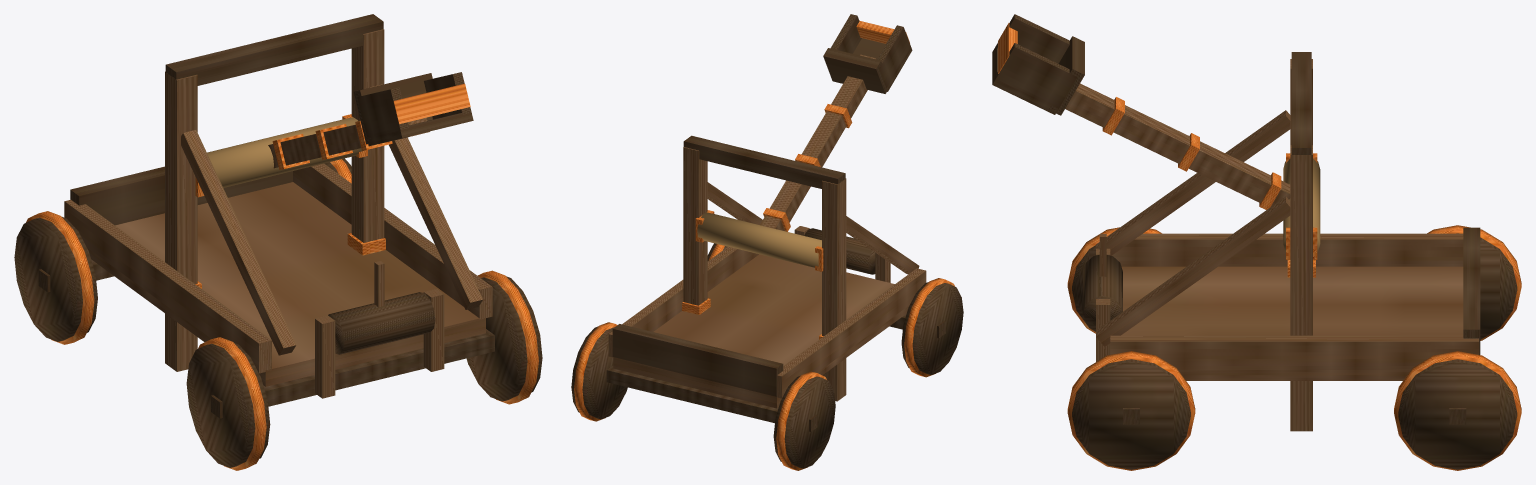
The model's file is ae_catapult_small_bronze_lod1.glb.
3 renders of one model, left to right at view 1: azimuth 30°, elevation 25°; view 2: azimuth 150°, elevation 25°; view 3: azimuth 270°, elevation 25°, orthographic. The views are drawn at different scales.
Visible parts, largest first — view 1: bed, sideL, post_L, wheel_RL_rim, wheel_FL_rim, cross_top, sideR, brace_-0.72, post_R, wheel_RR_rim, front_stop, winch_drum (+14 smaller); view 2: bed, front_stop, sideL, post_L, wheel_RL_rim, wheel_FL_rim, skein, post_R, arm_beam, cross_top, axle_front, sideR (+12 smaller); view 3: bed, sideR, wheel_FR_rim, wheel_RR_rim, sideL, arm_beam, post_R, brace_0.72, brace_-0.72, spoon_R, wheel_FL_rim, cross_top (+13 smaller).
Boxes of the visible parts, x1,y1,x2,y2 form: bed: (87,182,485,386); sideL: (64,199,271,373); post_L: (165,71,197,371); wheel_RL_rim: (186,343,270,467); wheel_FL_rim: (14,217,97,341); cross_top: (165,14,383,85); sideR: (293,163,492,319); brace_-0.72: (181,130,296,355); post_R: (351,29,384,242); wheel_RR_rim: (466,276,542,401); front_stop: (70,166,292,225); winch_drum: (328,292,435,354); bed: (613,254,909,408); front_stop: (612,324,783,396); sideL: (776,268,926,398); post_L: (822,178,846,401); wheel_RL_rim: (901,282,963,374); wheel_FL_rim: (773,376,835,468); skein: (697,212,821,267); post_R: (683,147,707,305); arm_beam: (760,54,876,230); cross_top: (683,135,845,188); axle_front: (606,366,817,431); sideR: (608,246,758,357); bed: (1121,266,1463,380); sideR: (1110,335,1478,369); wheel_FR_rim: (1398,359,1517,469); wheel_RR_rim: (1072,359,1190,469); sideL: (1110,233,1463,266); arm_beam: (1065,83,1290,206); post_R: (1290,145,1312,431); brace_0.72: (1096,196,1290,346); brace_-0.72: (1096,110,1290,255); spoon_R: (996,43,1076,108); wheel_FL_rim: (1456,233,1517,339); cross_top: (1291,52,1311,154).
Size of the model in its own units: 2.3 by 2.92 by 3.73.
3 materials, 3 textured.
